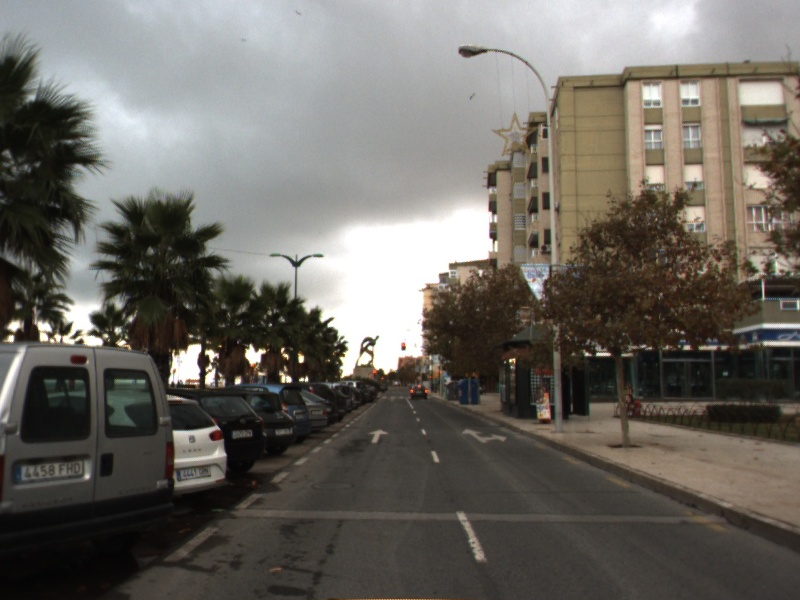STRAIGHT: (366, 427, 391, 444)
STRAIGHT_RIGHT: (460, 426, 509, 445)
